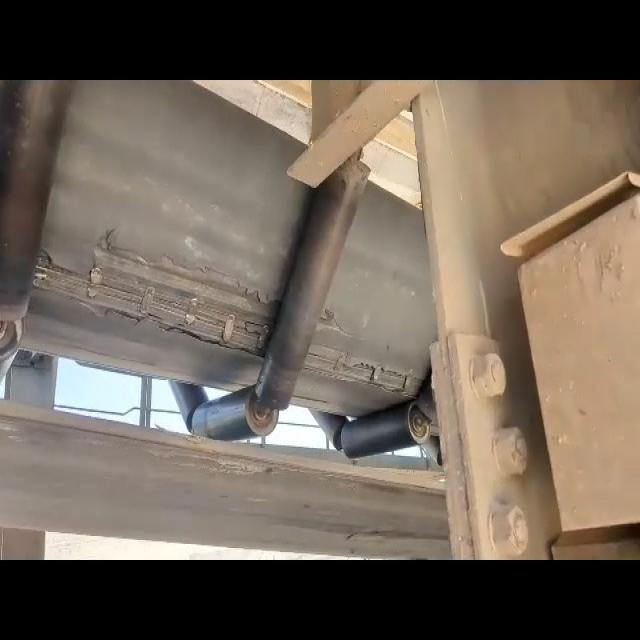Tear: (29, 228, 284, 361), (301, 346, 430, 400)
Wear: (317, 302, 355, 343)
